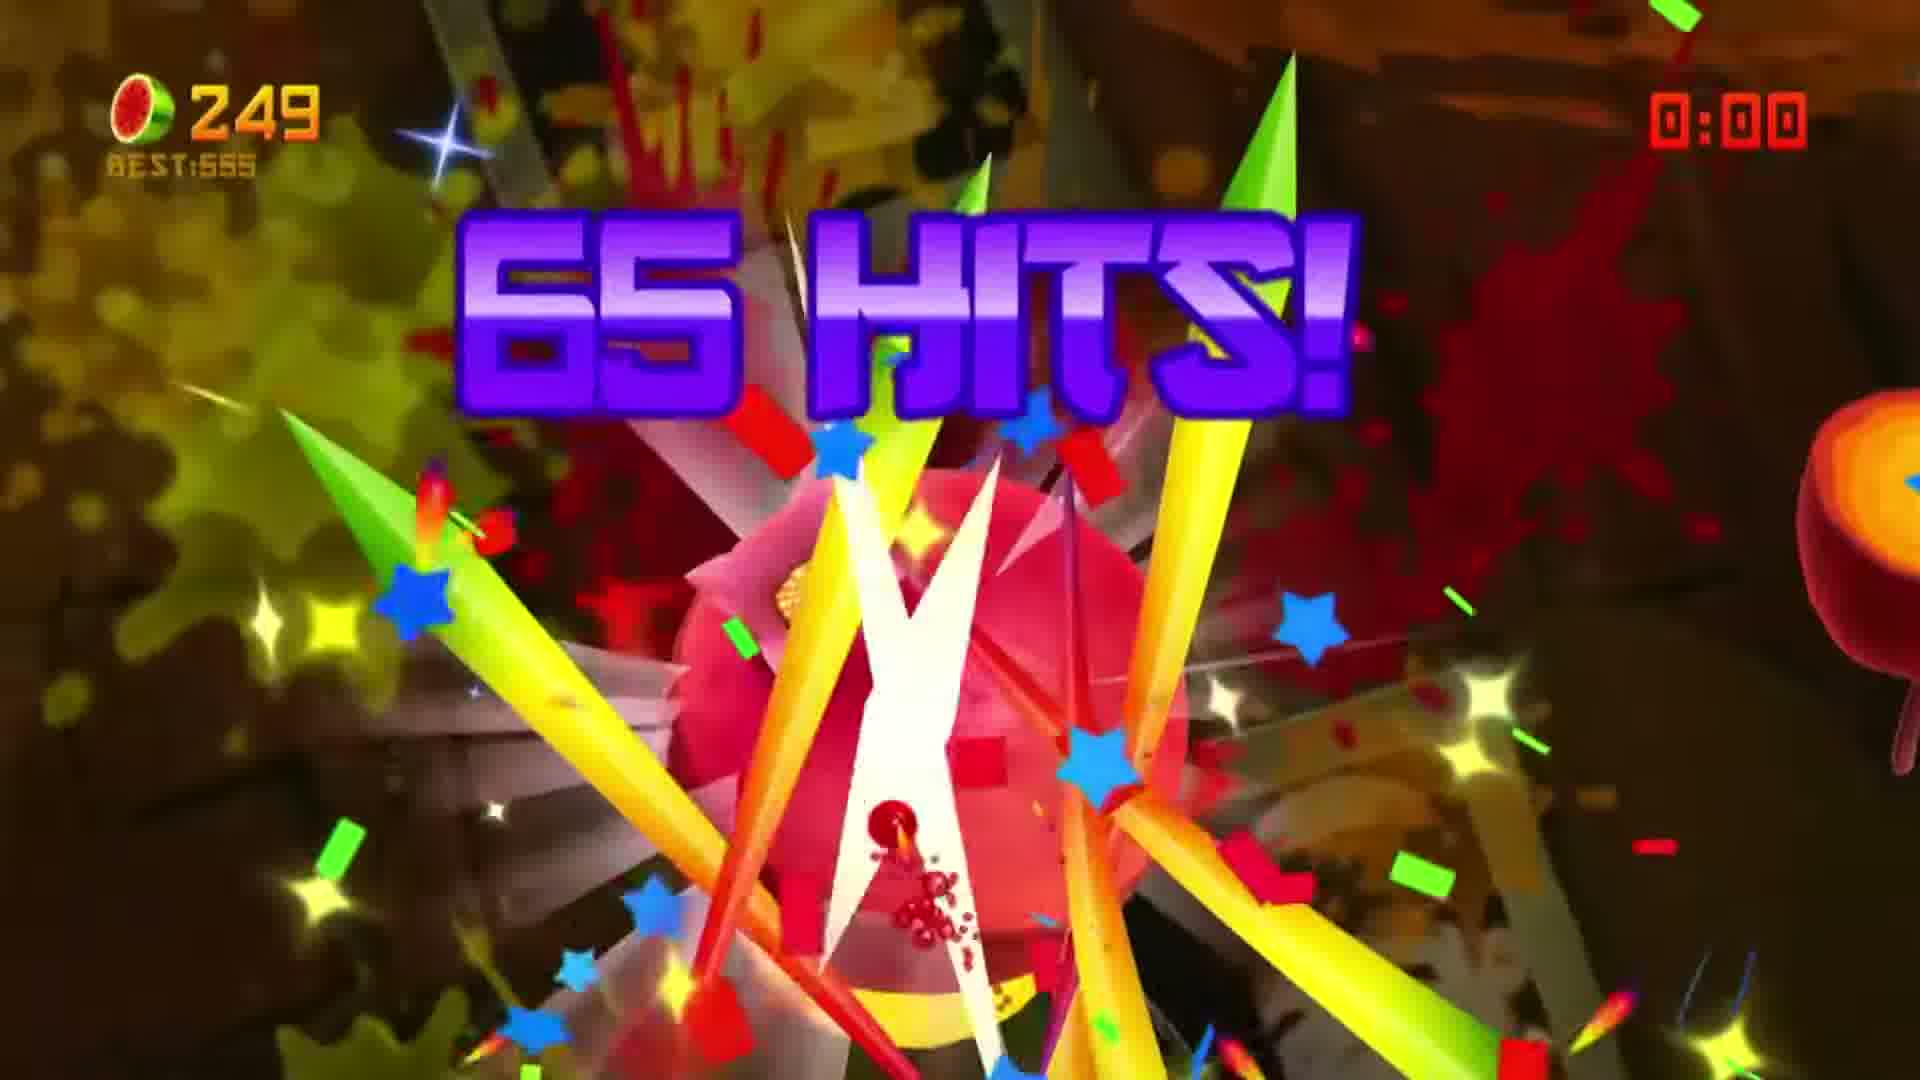blade_trail: (231, 270, 1642, 1043)
fruit: (707, 330, 1172, 909), (1880, 415, 1920, 712)
